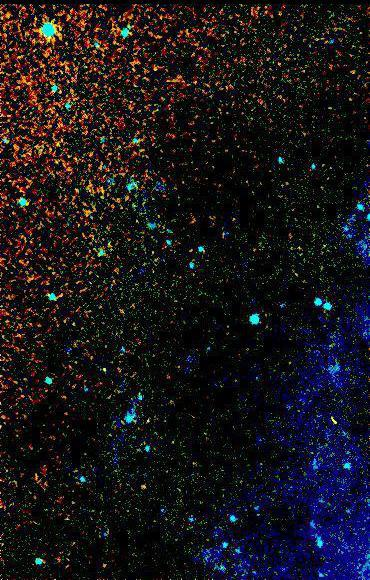star: (130, 471, 160, 501)
